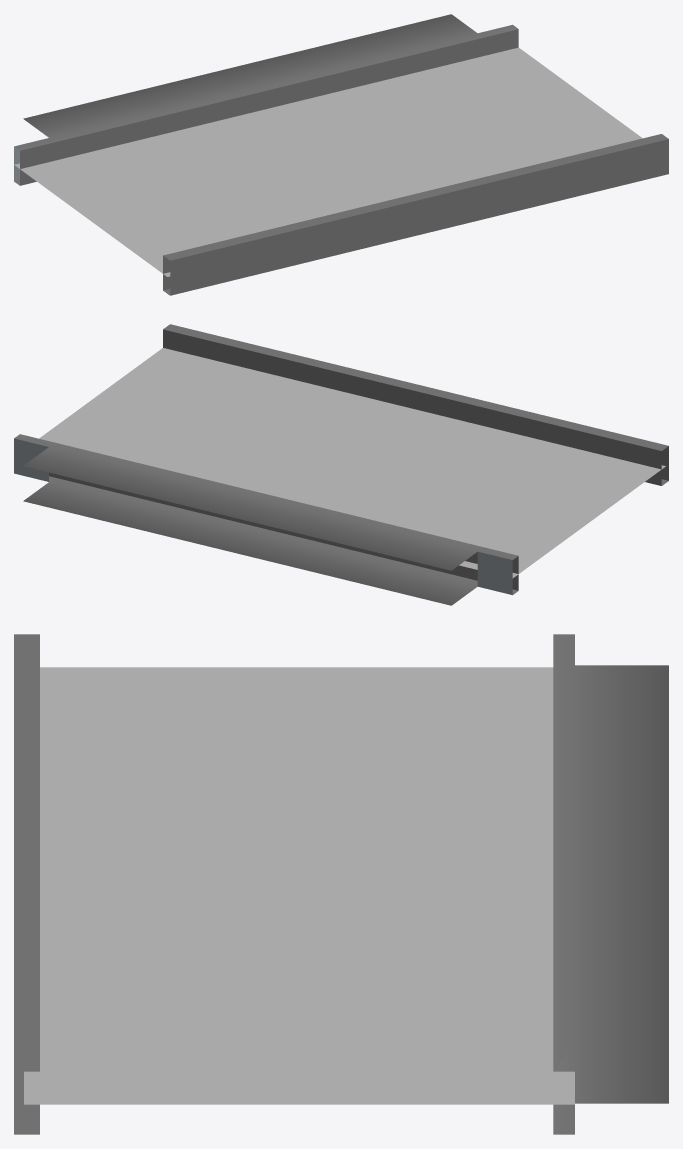
The model's file is PagerB4.fbx.
3 renders of one model, top to bottom at view 1: azimuth 30°, elevation 25°; view 2: azimuth 150°, elevation 25°; view 3: azimuth 270°, elevation 25°, orthographic. The views are drawn at different scales.
Parts seen in each view (by area): view 1: PagerB2_LOD0; view 2: PagerB2_LOD0; view 3: PagerB2_LOD0.
Part boxes in pixels (x1,y1,x2,y2): PagerB2_LOD0: [14, 14, 668, 295]; PagerB2_LOD0: [14, 324, 668, 605]; PagerB2_LOD0: [14, 634, 668, 1134].
Size of what is drawn, in the model's own units: 392 by 26.34 by 248.
